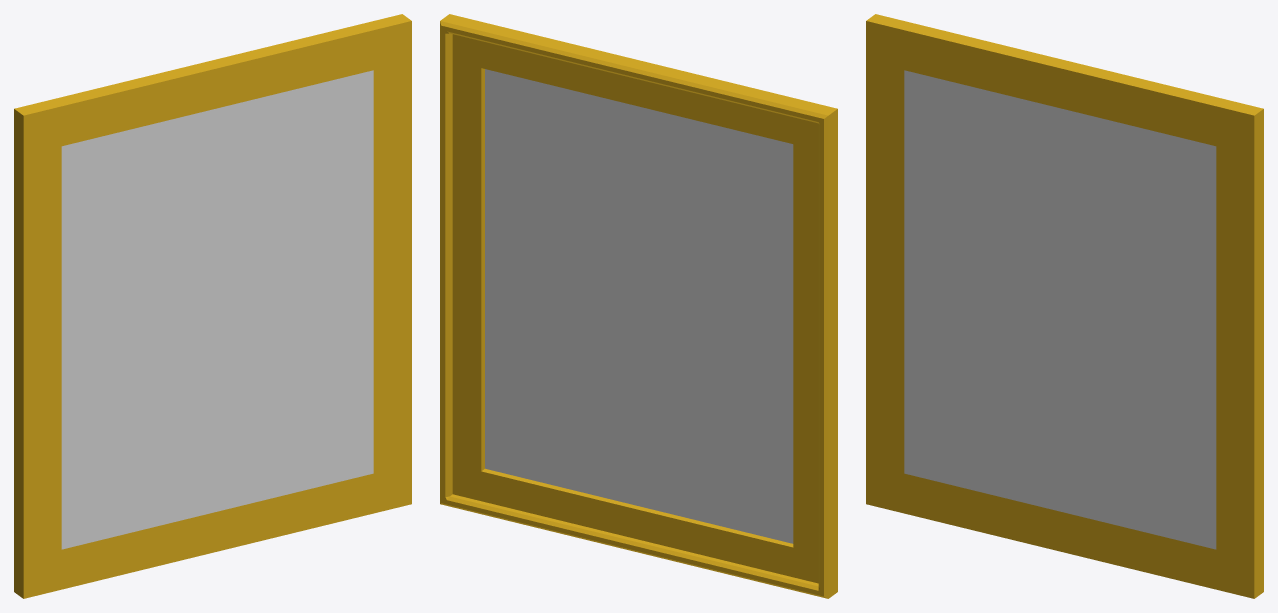
The model's file is Painting_20x24.fbx.
3 views of the same model, side by side, from view 1: azimuth 30°, elevation 25°; view 2: azimuth 150°, elevation 25°; view 3: azimuth 330°, elevation 25° (orthographic).
Visible parts, largest first — view 1: Painting_20x24; view 2: Painting_20x24; view 3: Painting_20x24.
Part boxes in pixels (bbox=[...]): Painting_20x24: bbox=[14, 14, 411, 598]; Painting_20x24: bbox=[440, 14, 837, 598]; Painting_20x24: bbox=[866, 14, 1263, 598].
Size of the model in its own units: 50.8 by 60.41 by 2.5.
